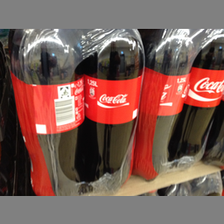soda: (10, 30, 85, 195), (83, 29, 145, 190), (133, 30, 189, 181), (180, 30, 224, 162)
